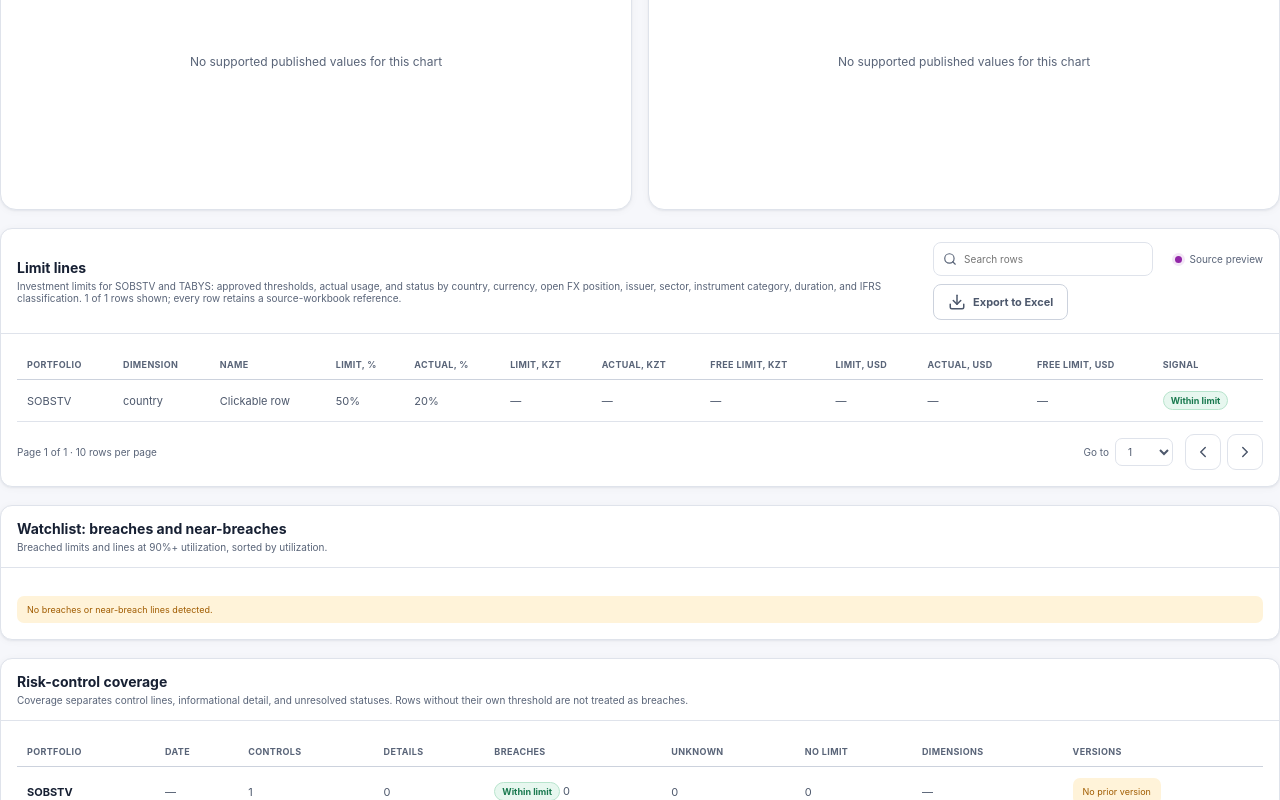
multi-source domain pages › opens the source-cell drawer when a source-backed row is clicked
This screenshot has width=1280, height=800.
(page scrolled)
Click the text "Clickable row". click: (268, 401)
box: [210,380,326,422]
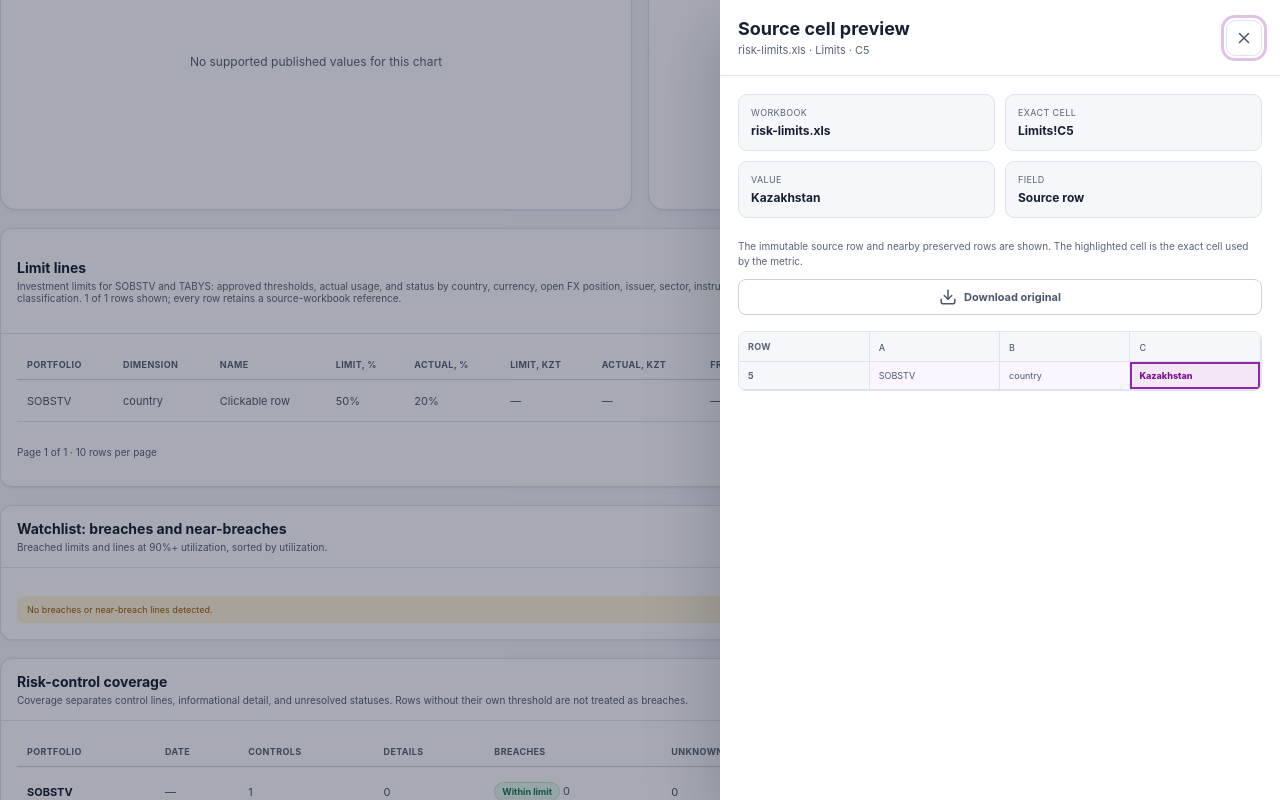
Now the heading "Source cell preview" is shown, box [738,18,910,39]
